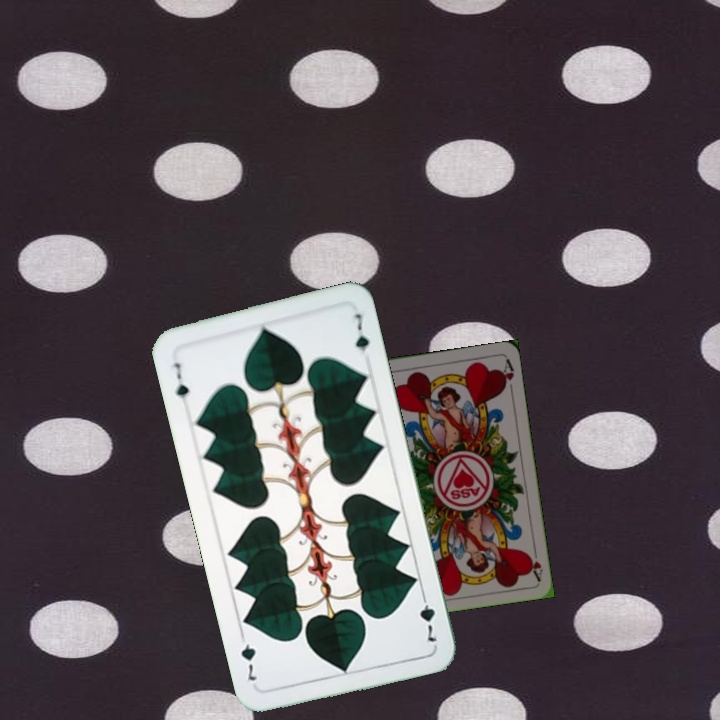G7: (415, 588, 440, 645), (167, 358, 192, 401)
HA: (524, 542, 546, 583)
